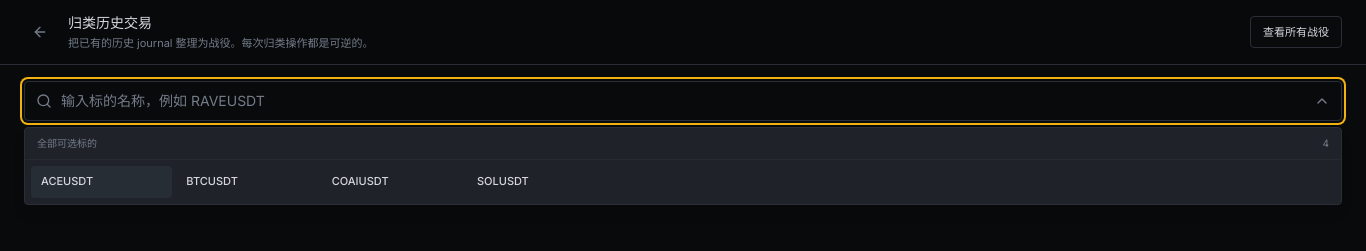
Test: JournalCampaignClassifyPage › narrows symbols and records from the first typed character without resetting on hover
Later steps or results of the test are not shown.
Step 1. Type "a" into the dropdown labelled "标的名称" → (683, 100), box top-left (24, 80), bottom-right (1342, 120)
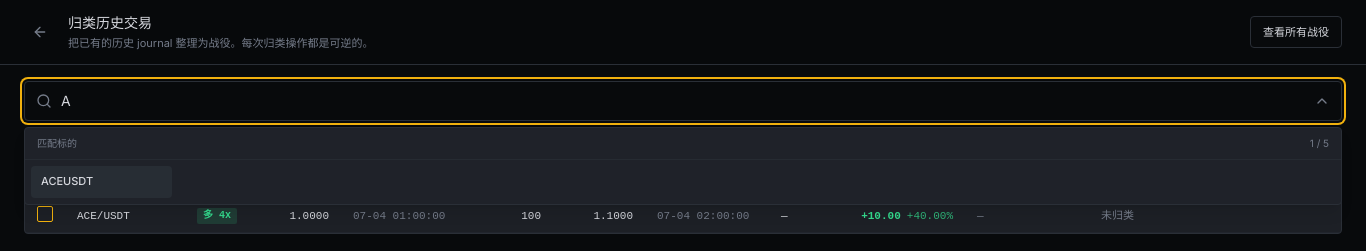
Expected: the option "COAIUSDT" is gone
Expected: the option "BTCUSDT" is gone
Expected: the text "ACE/USDT" is shown, top-left (77, 208), bottom-right (130, 224)
